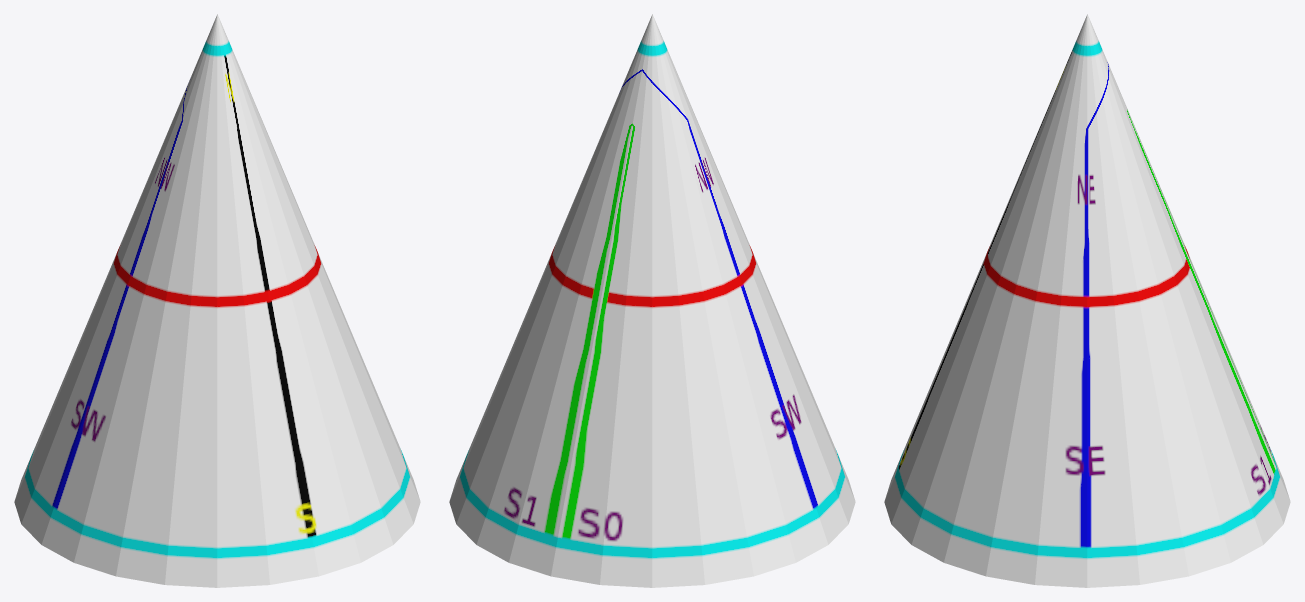
File: coneScale.FBX
3 renders of one model, left to right at view 1: azimuth 30°, elevation 25°; view 2: azimuth 150°, elevation 25°; view 3: azimuth 270°, elevation 25°, orthographic.
Parts seen in each view (by area): view 1: Cone01; view 2: Cone01; view 3: Cone01.
Boxes of the visible parts, <box> form: Cone01: <box>14,14,420,587</box>; Cone01: <box>449,14,855,587</box>; Cone01: <box>884,14,1290,587</box>.
Bounding box in the file's own units: 11.17 × 11.17 × 14.8.
